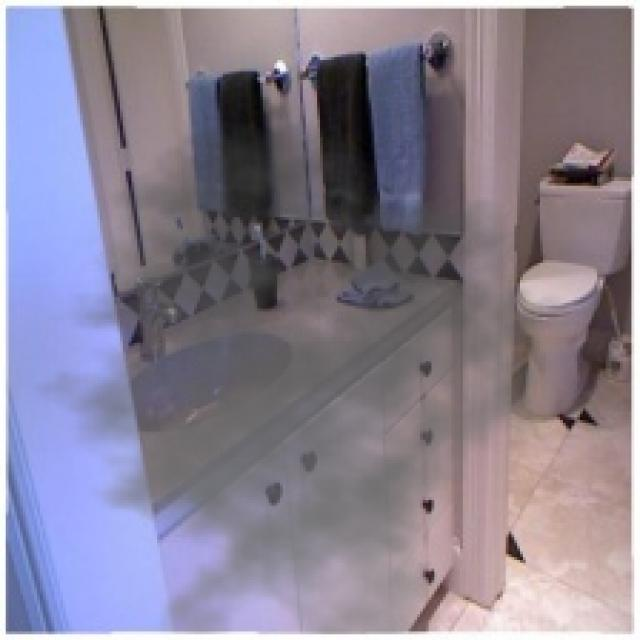smoke: (9, 120, 568, 634)
